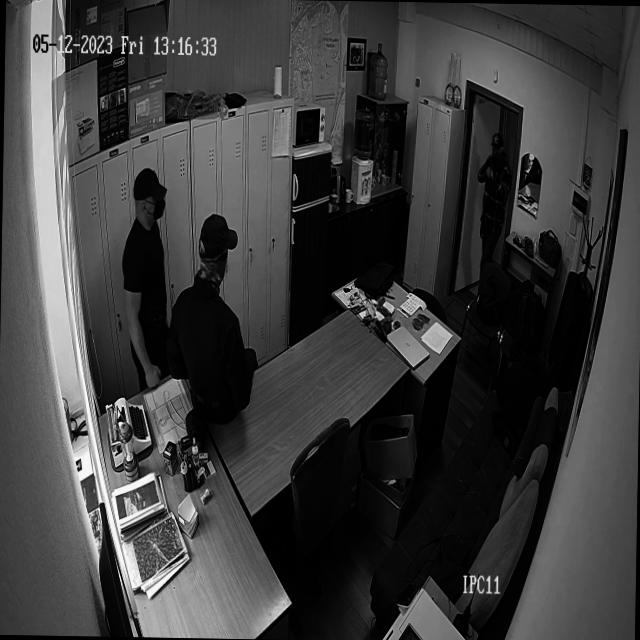gun: (487, 160, 500, 188), (512, 231, 522, 249)
person: (165, 215, 258, 422), (120, 172, 170, 394)
person with a gun: (474, 133, 512, 304)
